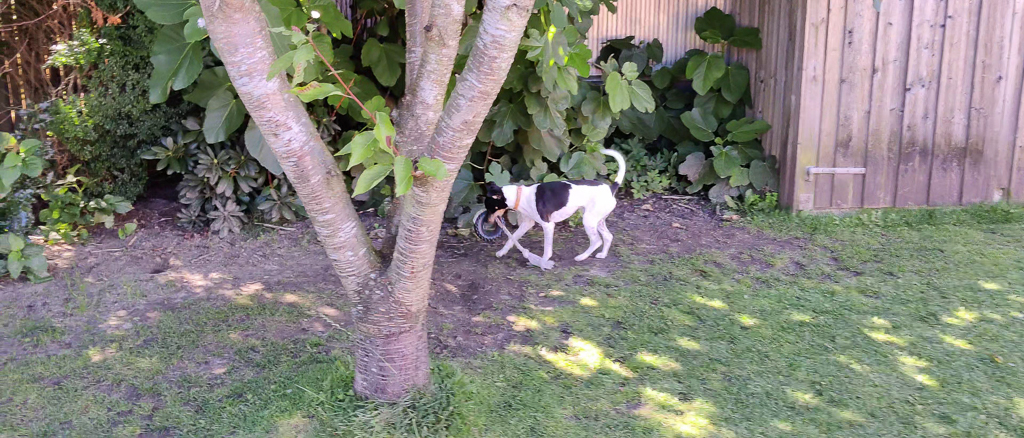Dog: (467, 136, 638, 274)
